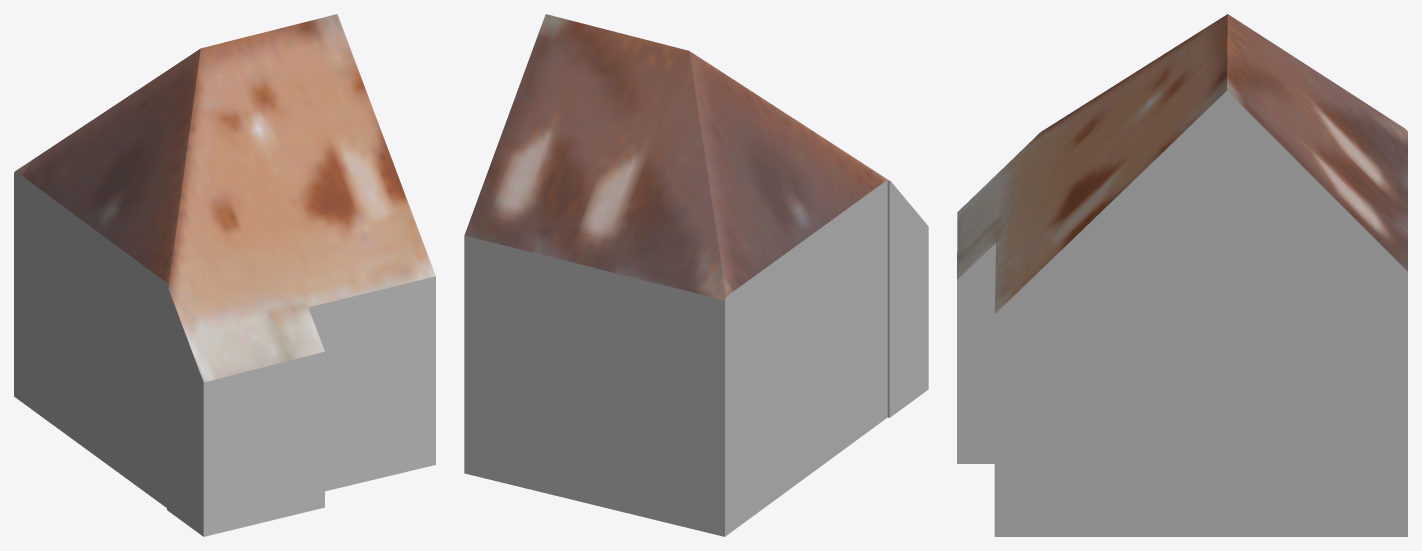
File: DEBW_0010007Txe9.gltf
The picture shows the model from 3 angles, left to right: view 1: azimuth 30°, elevation 25°; view 2: azimuth 150°, elevation 25°; view 3: azimuth 270°, elevation 25°; orthographic projection. The views are drawn at different scales.
Visible parts, largest first — view 1: Z_UP; view 2: Z_UP; view 3: Z_UP.
Part boxes in pixels (<box>): Z_UP: <box>14,14,435,536</box>; Z_UP: <box>464,14,928,536</box>; Z_UP: <box>957,14,1407,536</box>.
Bounding box in the file's own units: 9.06 × 13.21 × 12.1.
Materials: 2 (1 with a texture image).
